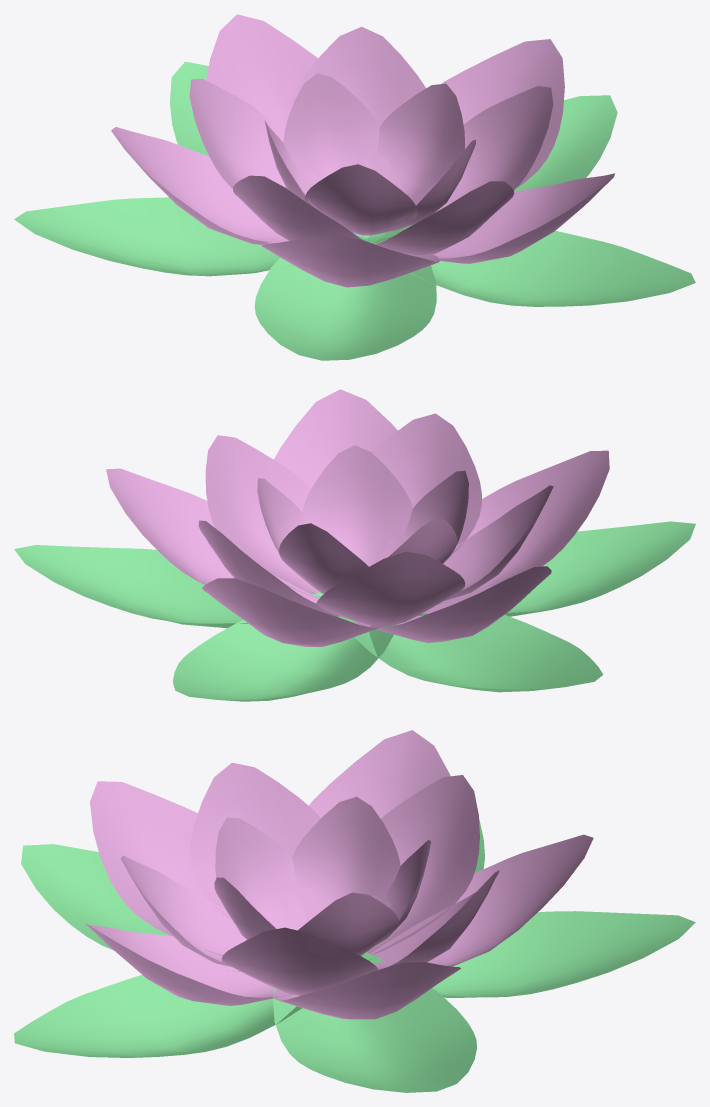
The model's file is LilyFlower.fbx.
The picture shows the model from 3 angles, top to bottom: view 1: azimuth 30°, elevation 25°; view 2: azimuth 150°, elevation 25°; view 3: azimuth 270°, elevation 25°; orthographic projection. The views are drawn at different scales.
Visible parts, largest first — view 1: Lily; view 2: Lily; view 3: Lily.
Part boxes in pixels (<box>): Lily: <box>14,14,695,360</box>; Lily: <box>14,389,695,701</box>; Lily: <box>14,730,695,1092</box>.
Size of the model in its own units: 0.1411 by 0.0376 by 0.1357.
